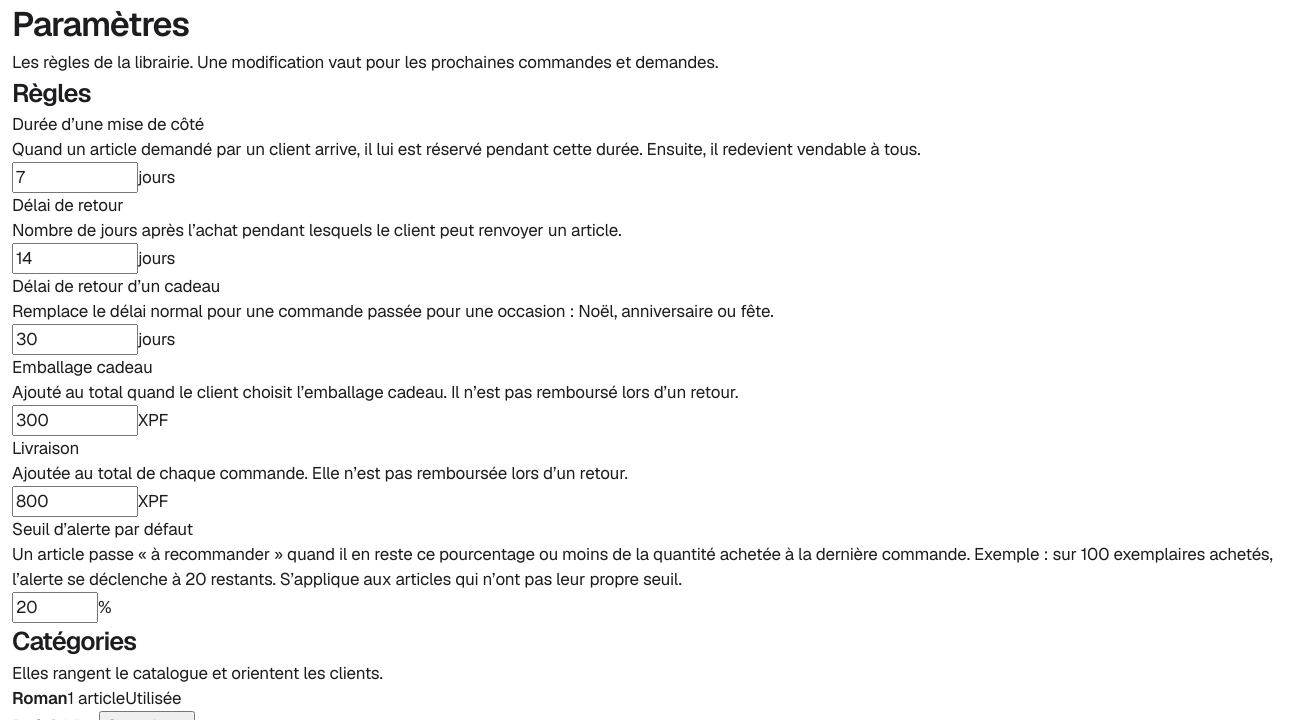
Test: page des paramètres › grise Enregistrer quand on remet la valeur d origine
Replace the text in the number field named "Durée d’une mise de côté (jours)" with "10": (75, 178) [12,162,138,193]
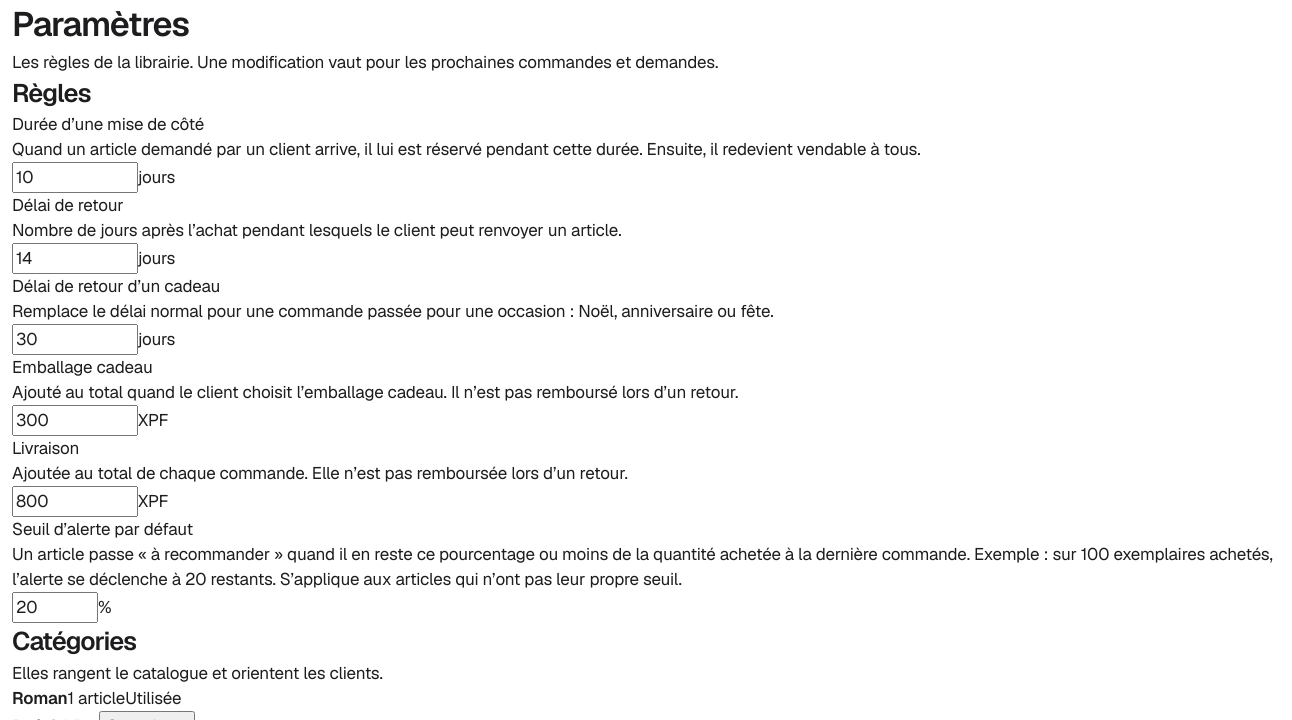
Replace the text in the number field named "Durée d’une mise de côté (jours)" with "7": (75, 178) [12,162,138,193]
(page scrolled)
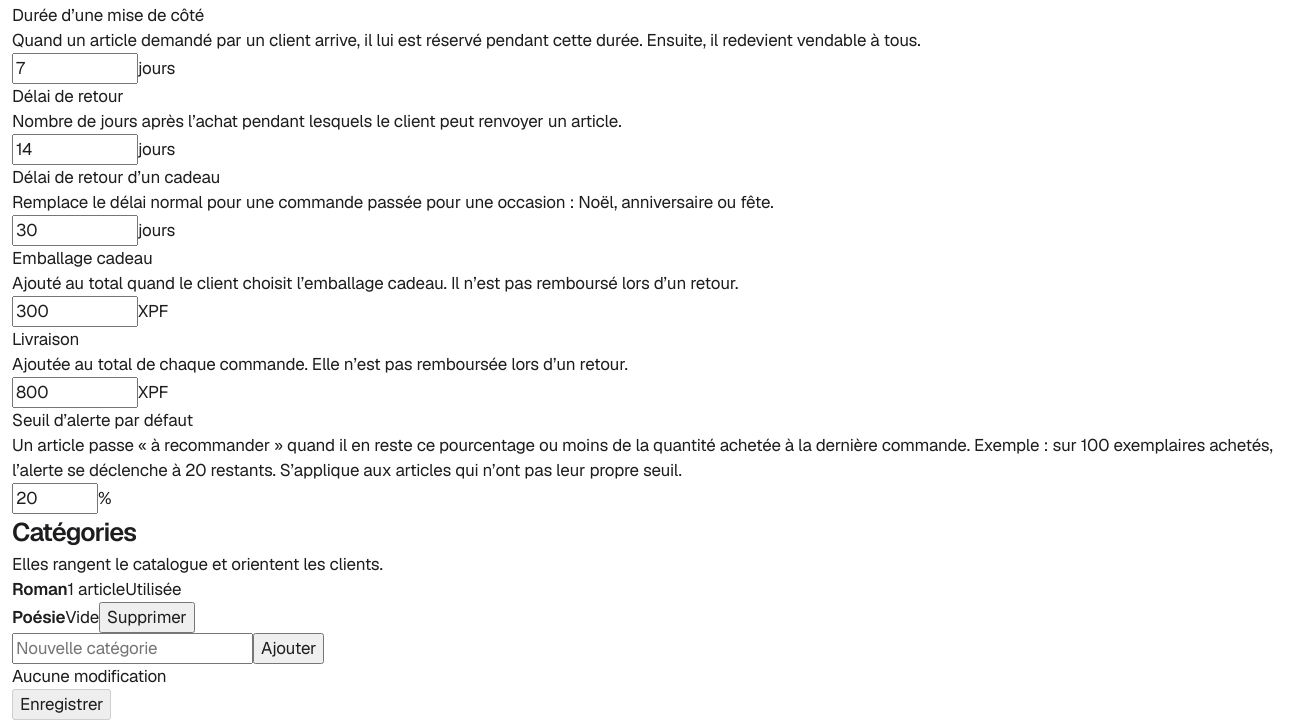
Expected: the button "Enregistrer" is disabled, [12,688,111,719]
